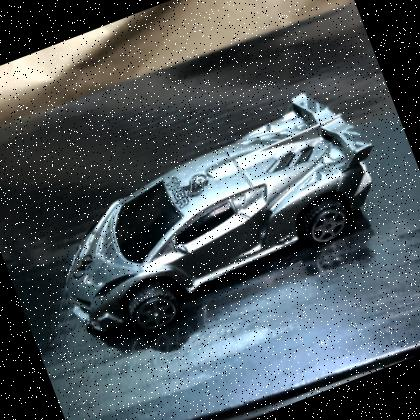Car: (66, 94, 373, 335)
